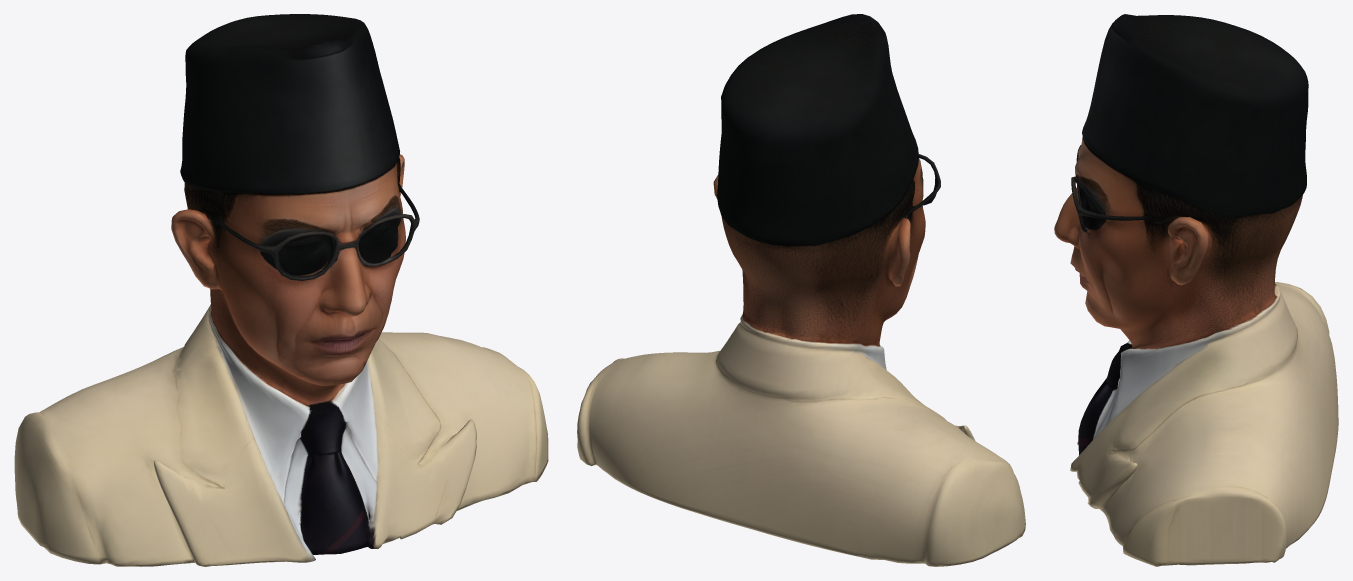
File: wrsupartman.glb
3 views of the same model, side by side, from view 1: azimuth 30°, elevation 25°; view 2: azimuth 150°, elevation 25°; view 3: azimuth 270°, elevation 25° (orthographic). The views are drawn at different scales.
Visible parts, largest first — view 1: model; view 2: model; view 3: model.
Boxes of the visible parts, box(x1,y1,x2,y2) form: model: box(14, 14, 548, 566); model: box(577, 14, 1025, 566); model: box(1054, 14, 1338, 566).
Size of the model in its own units: 1.9 by 1.9 by 1.1.
1 material, 1 textured.
